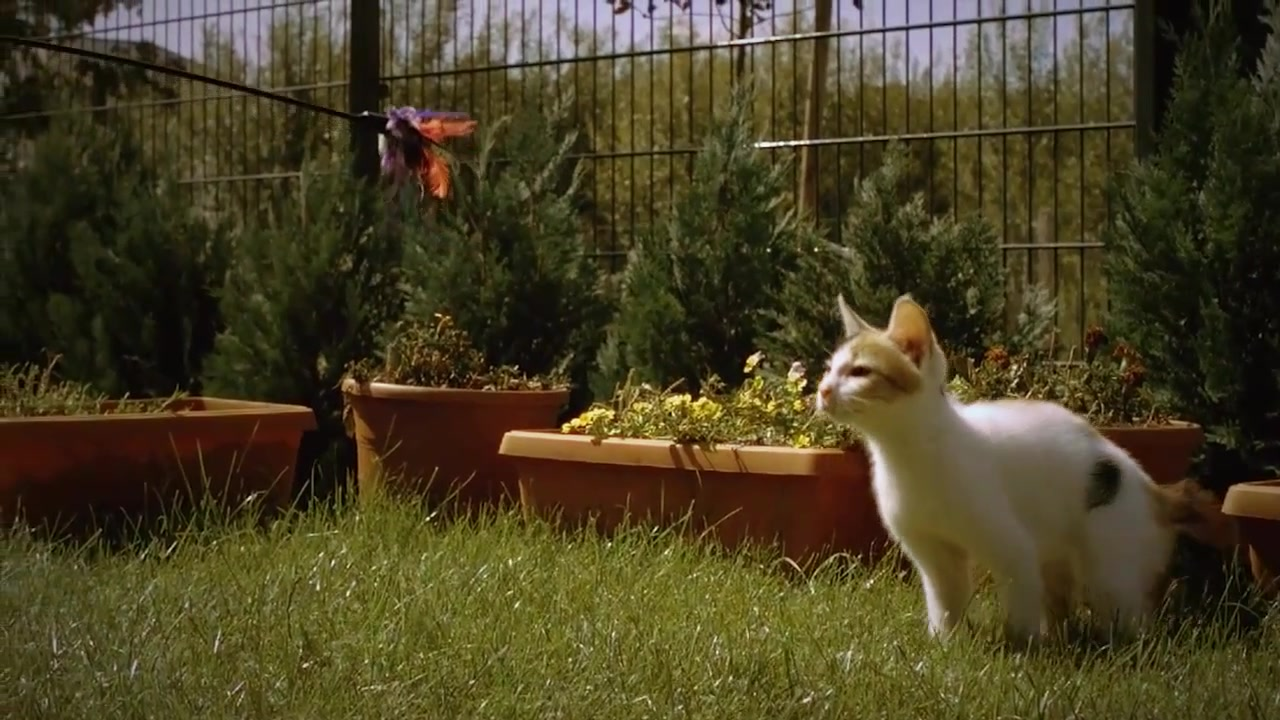cat: (813, 286, 1211, 653)
